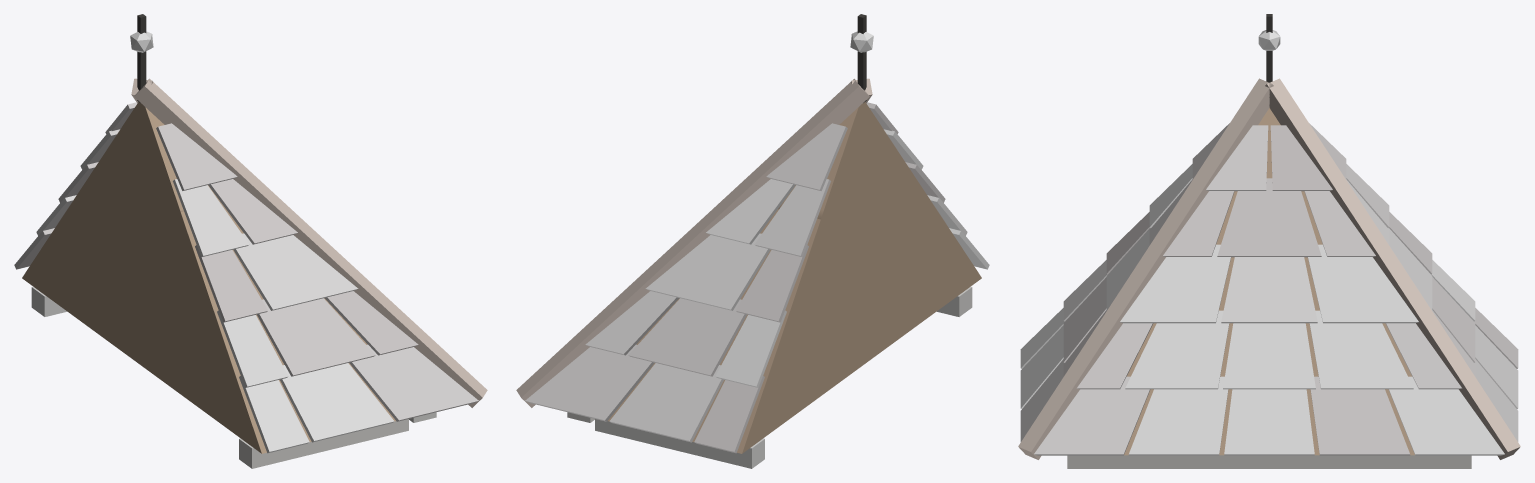
Rendered from Kit_RealTower_CrRfA_Fractured.fbx.
3 views of the same model, side by side, from view 1: azimuth 30°, elevation 25°; view 2: azimuth 150°, elevation 25°; view 3: azimuth 270°, elevation 25° (orthographic). The views are drawn at different scales.
Parts seen in each view (by area): view 1: Kit_RealTower_CrRfA_frag_01, Kit_RealTower_CrRfA_frag_03, Kit_RealTower_CrRfA_frag_02, Kit_RealTower_CrRfA_frag_15, Kit_RealTower_CrRfA_frag_12, Kit_RealTower_CrRfA_frag_05, Kit_RealTower_CrRfA_frag_16, Kit_RealTower_CrRfA_frag_04, Kit_RealTower_CrRfA_frag_06; view 2: Kit_RealTower_CrRfA_frag_05, Kit_RealTower_CrRfA_frag_03, Kit_RealTower_CrRfA_frag_06, Kit_RealTower_CrRfA_frag_08, Kit_RealTower_CrRfA_frag_01, Kit_RealTower_CrRfA_frag_14, Kit_RealTower_CrRfA_frag_04, Kit_RealTower_CrRfA_frag_13, Kit_RealTower_CrRfA_frag_02, Kit_RealTower_CrRfA_frag_15, Kit_RealTower_CrRfA_frag_12; view 3: Kit_RealTower_CrRfA_frag_07, Kit_RealTower_CrRfA_frag_15, Kit_RealTower_CrRfA_frag_13, Kit_RealTower_CrRfA_frag_11, Kit_RealTower_CrRfA_frag_09, Kit_RealTower_CrRfA_frag_10, Kit_RealTower_CrRfA_frag_08, Kit_RealTower_CrRfA_frag_14, Kit_RealTower_CrRfA_frag_16, Kit_RealTower_CrRfA_frag_02, Kit_RealTower_CrRfA_frag_06, Kit_RealTower_CrRfA_frag_05 (+4 smaller).
Part boxes in pixels (left/top/right/bottom): Kit_RealTower_CrRfA_frag_01: left=180, top=258, right=395, bottom=453; Kit_RealTower_CrRfA_frag_03: left=100, top=154, right=220, bottom=393; Kit_RealTower_CrRfA_frag_02: left=173, top=179, right=358, bottom=322; Kit_RealTower_CrRfA_frag_15: left=239, top=238, right=487, bottom=468; Kit_RealTower_CrRfA_frag_12: left=239, top=363, right=394, bottom=453; Kit_RealTower_CrRfA_frag_05: left=14, top=186, right=100, bottom=335; Kit_RealTower_CrRfA_frag_16: left=134, top=78, right=322, bottom=245; Kit_RealTower_CrRfA_frag_04: left=104, top=14, right=218, bottom=209; Kit_RealTower_CrRfA_frag_06: left=58, top=129, right=119, bottom=202; Kit_RealTower_CrRfA_frag_05: left=595, top=259, right=820, bottom=468; Kit_RealTower_CrRfA_frag_03: left=778, top=154, right=900, bottom=395; Kit_RealTower_CrRfA_frag_06: left=645, top=179, right=830, bottom=322; Kit_RealTower_CrRfA_frag_08: left=525, top=291, right=679, bottom=421; Kit_RealTower_CrRfA_frag_01: left=901, top=186, right=981, bottom=337; Kit_RealTower_CrRfA_frag_14: left=681, top=78, right=869, bottom=245; Kit_RealTower_CrRfA_frag_04: left=785, top=14, right=899, bottom=209; Kit_RealTower_CrRfA_frag_13: left=516, top=238, right=698, bottom=422; Kit_RealTower_CrRfA_frag_02: left=884, top=129, right=945, bottom=202; Kit_RealTower_CrRfA_frag_15: left=937, top=286, right=972, bottom=316; Kit_RealTower_CrRfA_frag_12: left=949, top=228, right=989, bottom=269; Kit_RealTower_CrRfA_frag_07: left=1128, top=323, right=1315, bottom=455; Kit_RealTower_CrRfA_frag_15: left=1018, top=267, right=1271, bottom=468; Kit_RealTower_CrRfA_frag_13: left=1272, top=267, right=1520, bottom=468; Kit_RealTower_CrRfA_frag_11: left=1217, top=178, right=1321, bottom=323; Kit_RealTower_CrRfA_frag_09: left=1120, top=244, right=1230, bottom=389; Kit_RealTower_CrRfA_frag_10: left=1308, top=244, right=1418, bottom=389; Kit_RealTower_CrRfA_frag_08: left=1385, top=310, right=1518, bottom=455; Kit_RealTower_CrRfA_frag_14: left=1265, top=78, right=1403, bottom=272; Kit_RealTower_CrRfA_frag_16: left=1135, top=78, right=1273, bottom=272; Kit_RealTower_CrRfA_frag_02: left=1106, top=164, right=1234, bottom=310; Kit_RealTower_CrRfA_frag_06: left=1304, top=164, right=1432, bottom=310; Kit_RealTower_CrRfA_frag_05: left=1382, top=260, right=1518, bottom=455.
Size of what is drawn, in the model's own units: 1.43 by 2.18 by 2.74.
